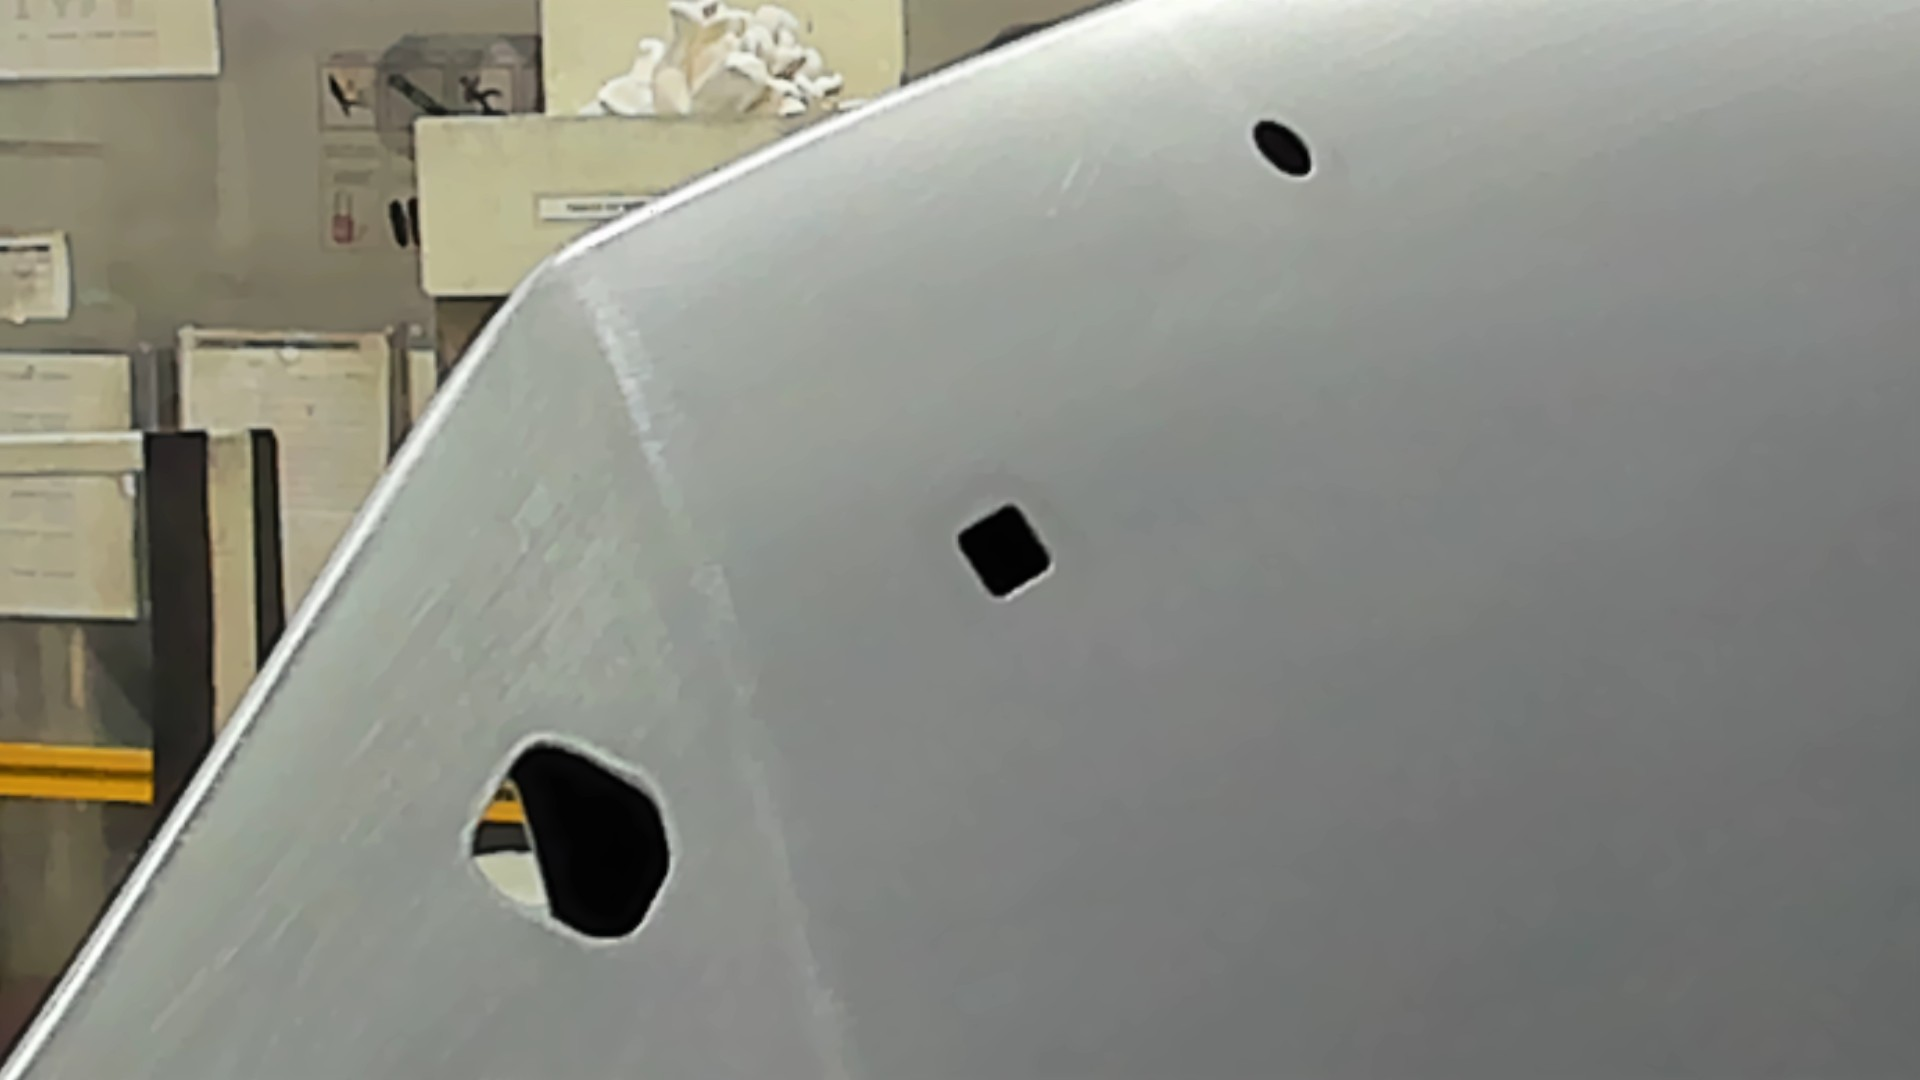chico: (1246, 109, 1320, 186)
grande: (458, 724, 683, 949)
mediano: (952, 496, 1058, 605)
